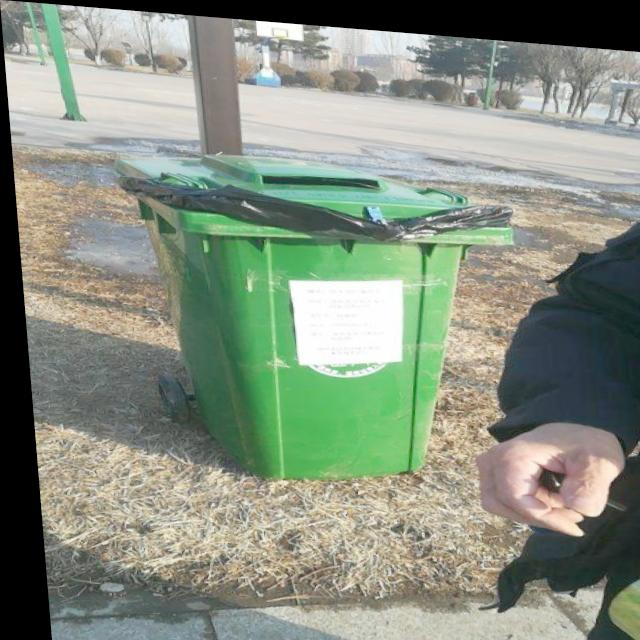garbage_bin: (104, 141, 527, 492)
